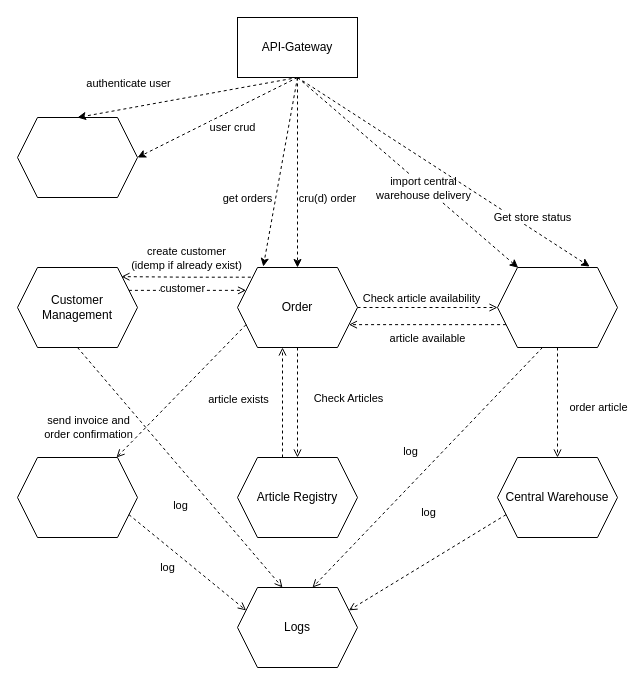
This 644x685 diagram has some shape labels left out. The shapes that lost their labels are listed below. From the top down, each one's centre as x and y in pixels, then its label:
At (x=77, y=157): "Authentication & User Management".
At (x=557, y=307): "Store Management".
At (x=77, y=497): "Accounting".
